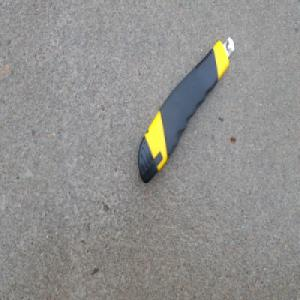Cutter: (136, 35, 234, 186)
